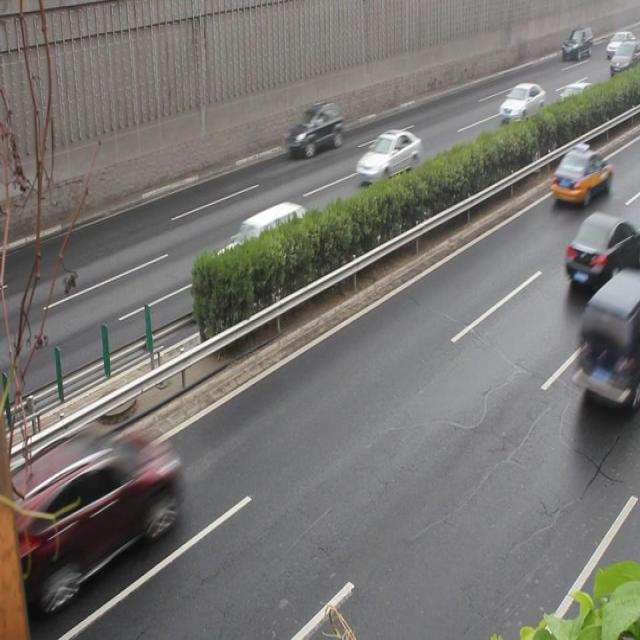car: (27, 427, 177, 586), (575, 267, 640, 403), (217, 202, 309, 286), (563, 211, 640, 288), (354, 128, 420, 187), (549, 146, 612, 207), (287, 100, 342, 161), (546, 83, 600, 130), (497, 81, 544, 128)
